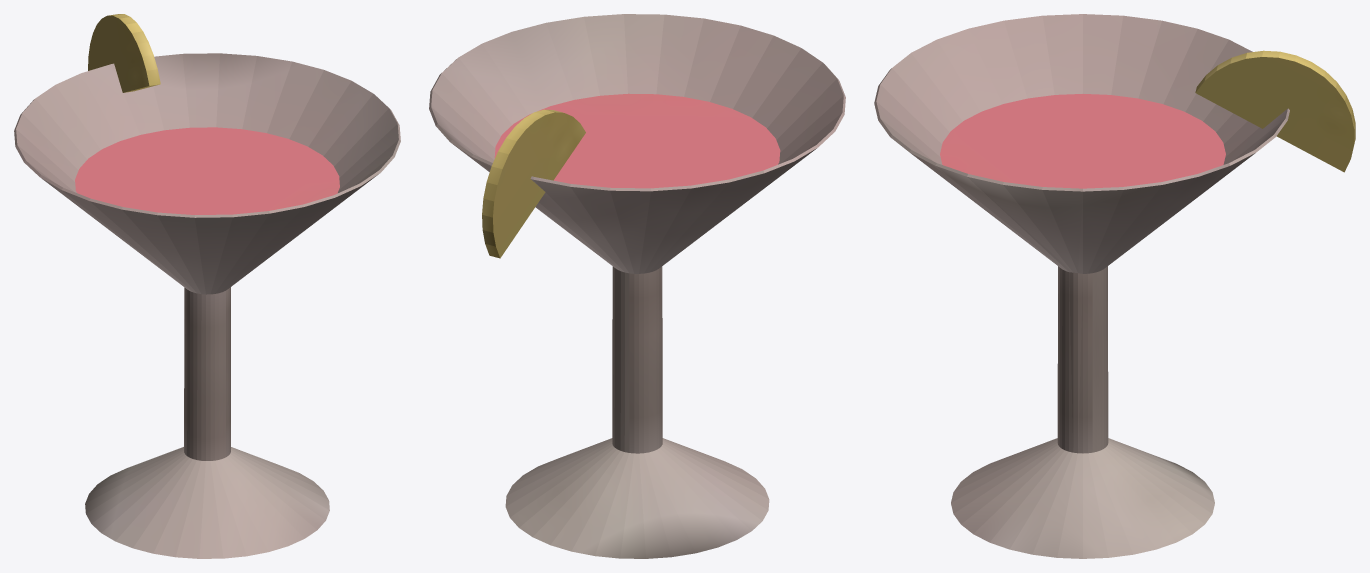
File: glass.dae
3 views of the same model, side by side, from view 1: azimuth 30°, elevation 25°; view 2: azimuth 150°, elevation 25°; view 3: azimuth 270°, elevation 25° (orthographic). The views are drawn at different scales.
Parts seen in each view (by area): view 1: Circle; view 2: Circle; view 3: Circle.
Part boxes in pixels (box(x1,y1,x2,y2)): Circle: box(14, 14, 400, 558); Circle: box(429, 14, 845, 558); Circle: box(874, 14, 1355, 558).
Size of the model in its own units: 0.1618 by 0.1866 by 0.1938.
Materials: 1 (1 with a texture image).
